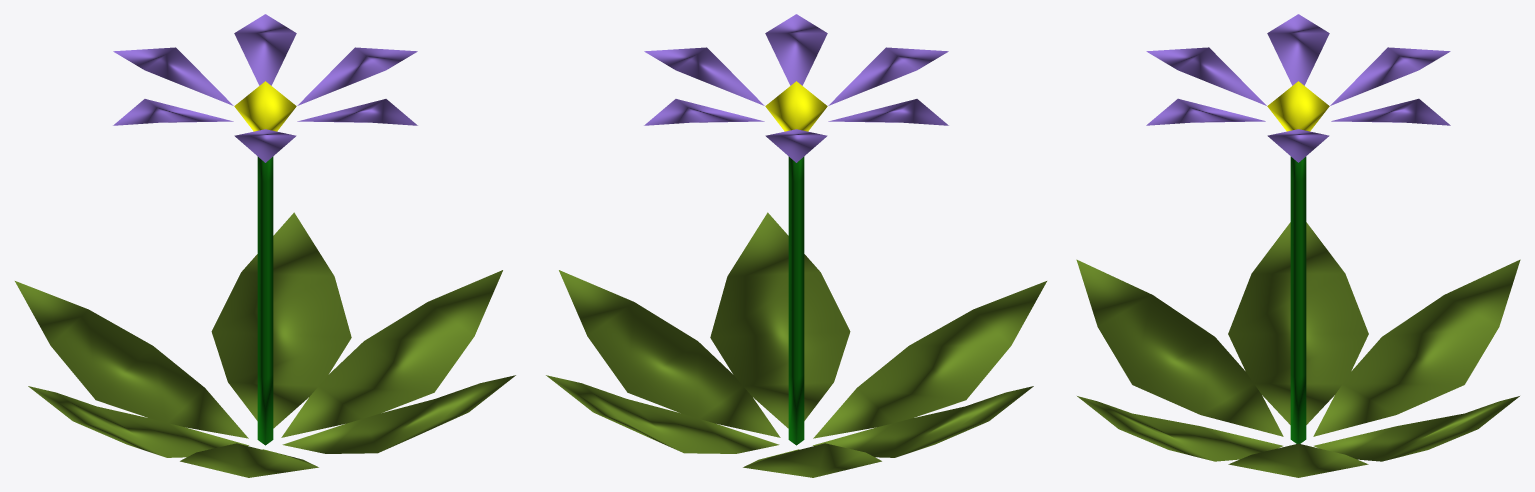
File: hepatica_0002.obj
The picture shows the model from 3 angles, left to right: view 1: azimuth 30°, elevation 25°; view 2: azimuth 150°, elevation 25°; view 3: azimuth 270°, elevation 25°; orthographic projection.
Visible parts, largest first — view 1: hepatica_0002; view 2: hepatica_0002; view 3: hepatica_0002.
Boxes of the visible parts, x1,y1,x2,y2 form: hepatica_0002: [15, 14, 515, 477]; hepatica_0002: [546, 14, 1046, 477]; hepatica_0002: [1076, 14, 1520, 477].
Size of the model in its own units: 3.04 by 2.2 by 2.46.
Materials: 1 (1 with a texture image).
